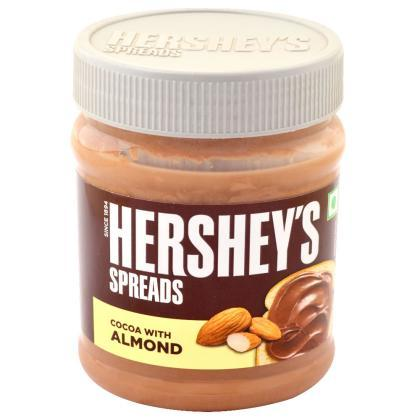Hershey-s: (73, 10, 347, 412)
